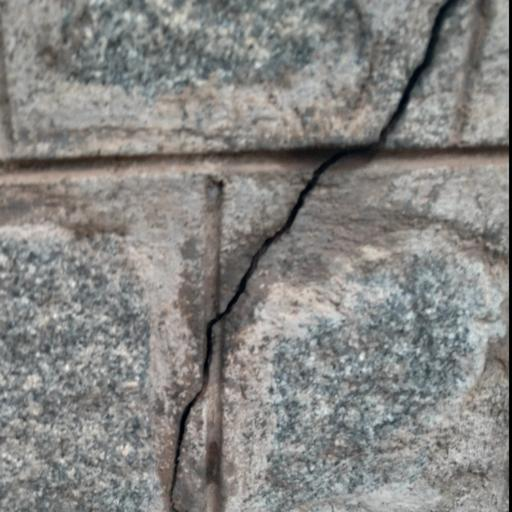major_crack: (164, 0, 462, 512)
